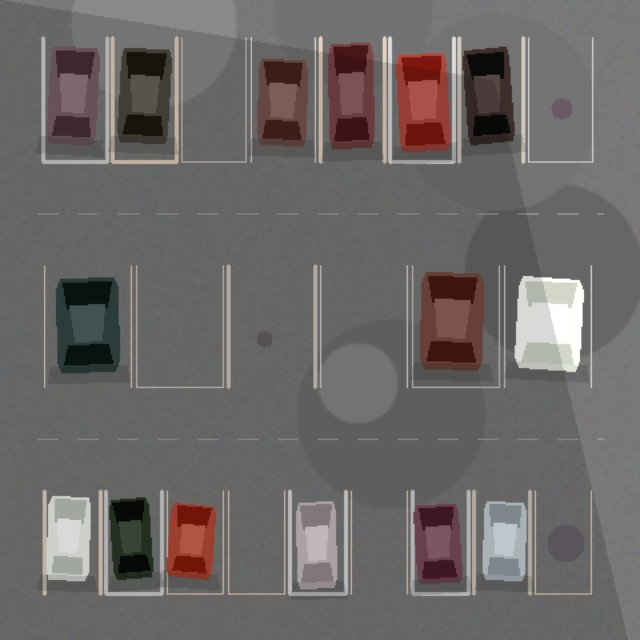space-empty: (136, 265, 223, 387), (228, 265, 315, 387), (320, 265, 407, 387), (181, 37, 245, 161), (528, 37, 592, 161), (228, 491, 284, 593), (351, 491, 407, 593), (535, 491, 591, 593)
space-occupied: (44, 265, 131, 387), (412, 265, 499, 387), (504, 265, 591, 387), (43, 37, 107, 161), (112, 37, 176, 161), (251, 37, 315, 161), (320, 37, 384, 161), (389, 37, 453, 161), (459, 37, 523, 161), (44, 491, 100, 593), (105, 491, 161, 593), (167, 491, 223, 593), (289, 491, 345, 593), (412, 491, 468, 593), (473, 491, 529, 593)
